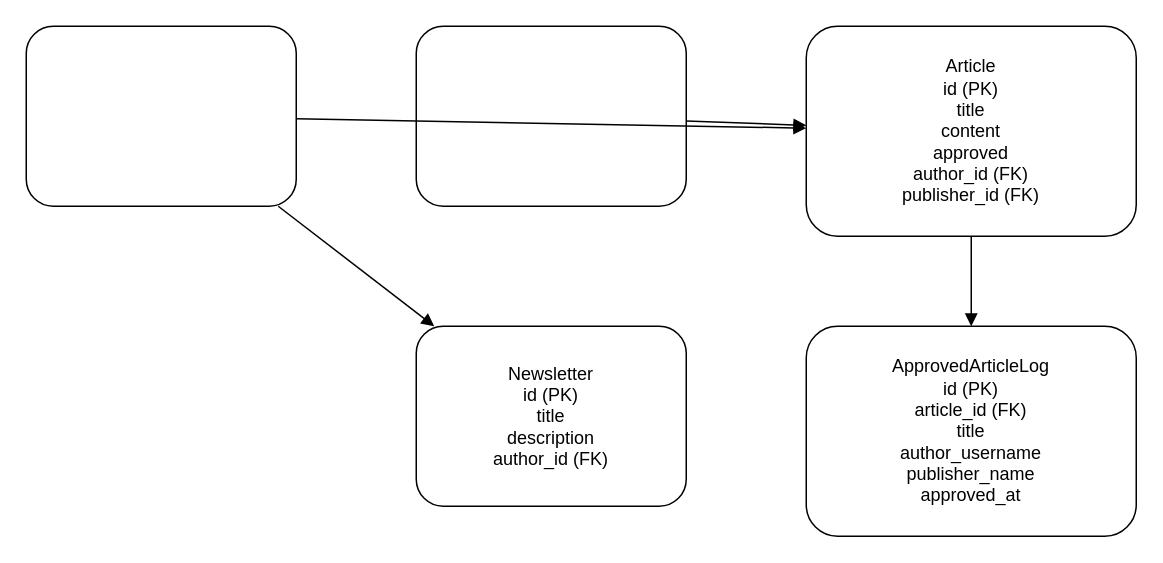
Some shapes in this 1163 by 563 pixel diagram are drawn without their labels. Here are the shapes that lost their labels. From the top down, the centre of each, then its label:
the point at 160,115: CustomUser id (PK) username email role
the point at 550,115: Publisher id (PK) name slug description
